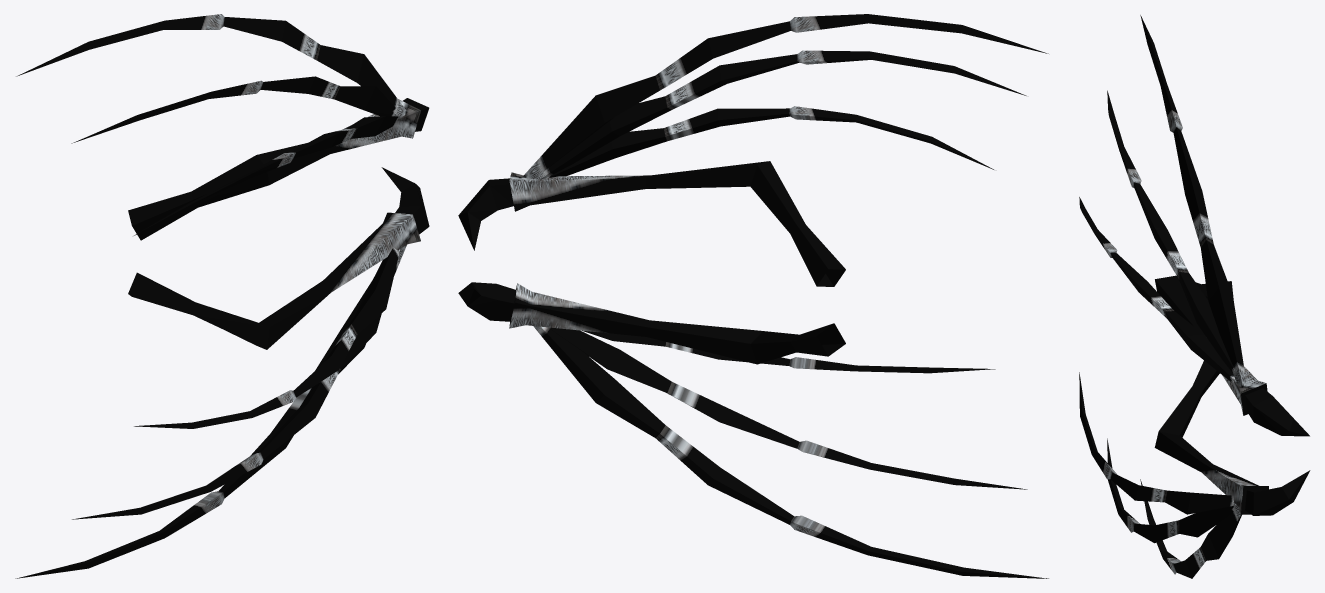
The model's file is Death_Knight_Wing_Warrior0.FBX.
3 views of the same model, side by side, from view 1: azimuth 30°, elevation 25°; view 2: azimuth 150°, elevation 25°; view 3: azimuth 270°, elevation 25° (orthographic). The views are drawn at different scales.
Visible parts, largest first — view 1: Death_Wing; view 2: Death_Wing; view 3: Death_Wing.
Boxes of the visible parts, x1,y1,x2,y2 form: Death_Wing: (15, 14, 429, 578); Death_Wing: (458, 14, 1048, 578); Death_Wing: (1079, 15, 1310, 578).
Bounding box in the file's own units: 2.43 × 2.52 × 1.08.
